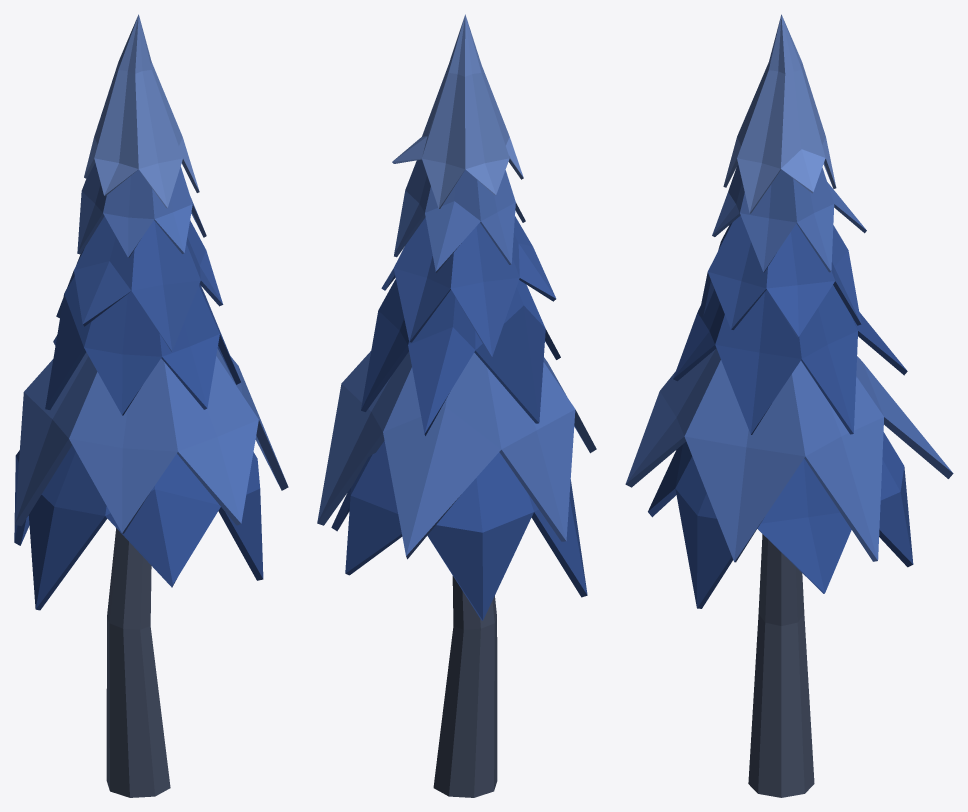
Rendered from SP_Tree03.fbx.
3 views of the same model, side by side, from view 1: azimuth 30°, elevation 25°; view 2: azimuth 150°, elevation 25°; view 3: azimuth 270°, elevation 25° (orthographic).
Visible parts, largest first — view 1: SP_Tree03; view 2: SP_Tree03; view 3: SP_Tree03.
Part boxes in pixels (<box>): SP_Tree03: <box>14,14,288,797</box>; SP_Tree03: <box>317,14,596,797</box>; SP_Tree03: <box>625,14,953,797</box>.
Bounding box in the file's own units: 105 × 323 × 125.
1 material, 1 textured.
